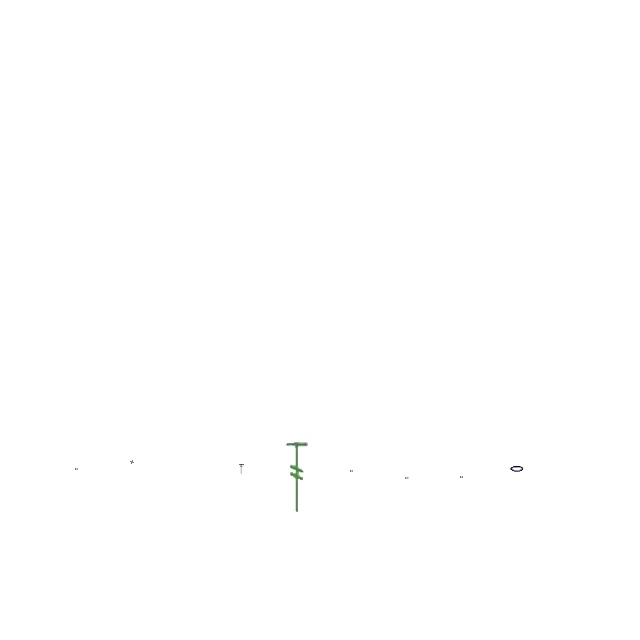chain: (509, 464, 525, 474), (350, 470, 354, 472), (405, 477, 409, 479), (460, 476, 464, 478), (76, 468, 78, 470)
double treble: (240, 464, 244, 474)
enseble_chain: (130, 460, 134, 464)
fan: (284, 442, 310, 514)
